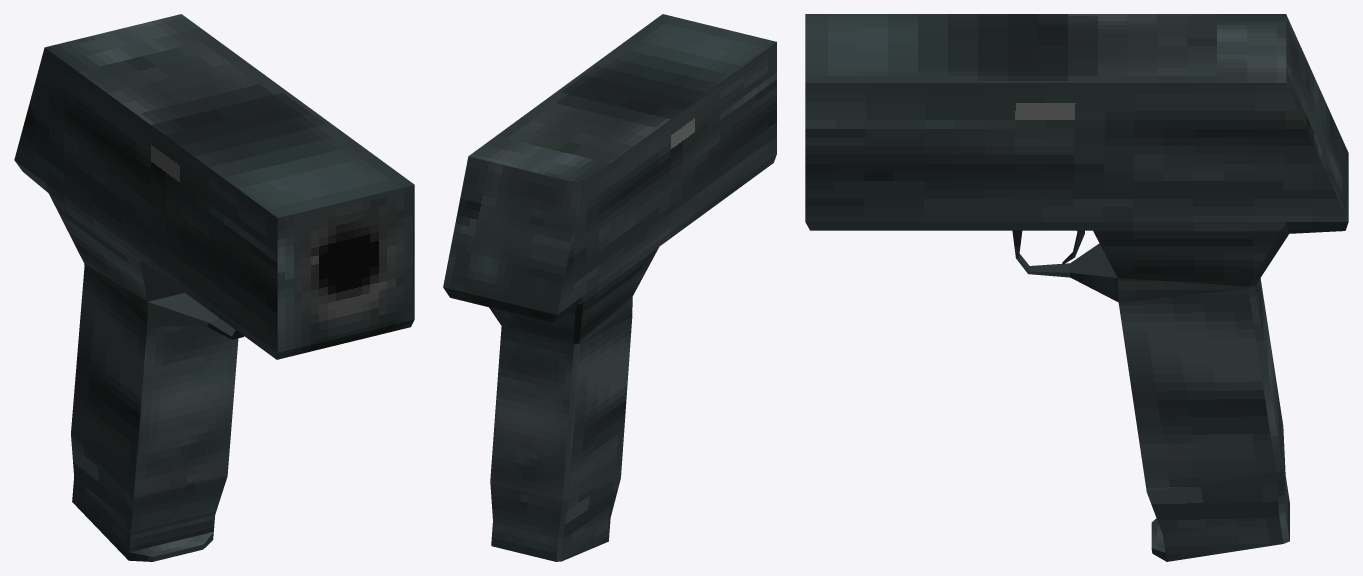
Rendered from Handgun.glb.
3 renders of one model, left to right at view 1: azimuth 30°, elevation 25°; view 2: azimuth 150°, elevation 25°; view 3: azimuth 270°, elevation 25°, orthographic. The views are drawn at different scales.
Visible parts, largest first — view 1: Handgun; view 2: Handgun; view 3: Handgun.
Part boxes in pixels (bbox=[...]): Handgun: bbox=[14, 14, 414, 561]; Handgun: bbox=[443, 14, 776, 561]; Handgun: bbox=[805, 14, 1348, 561].
Bounding box in the file's own units: 0.0457 × 0.1524 × 0.1524.
Materials: 1 (1 with a texture image).
